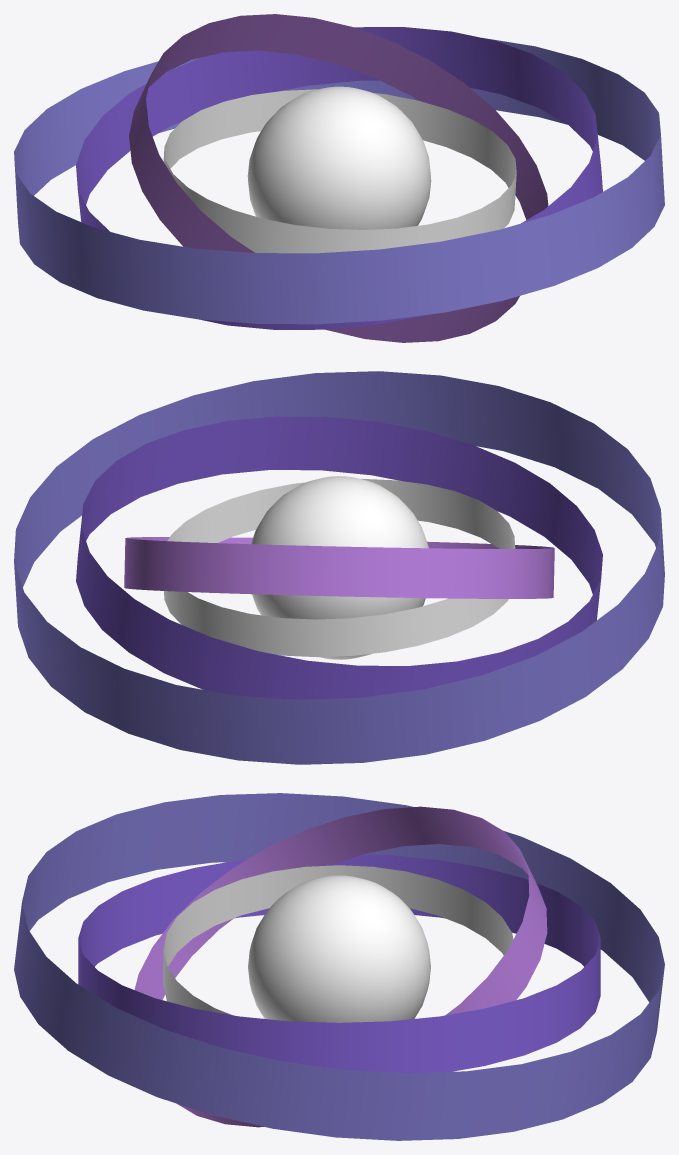
The model's file is metalicOrb2.glb.
3 views of the same model, one above another, from view 1: azimuth 30°, elevation 25°; view 2: azimuth 150°, elevation 25°; view 3: azimuth 270°, elevation 25° (orthographic).
Visible parts, largest first — view 1: Cylinder.003, Cylinder.002, Cylinder.001, Sphere, Cylinder; view 2: Cylinder.003, Cylinder.002, Cylinder.001, Cylinder, Sphere; view 3: Cylinder.003, Cylinder.002, Sphere, Cylinder.001, Cylinder.
Boxes of the visible parts, x1,y1,x2,y2 form: Cylinder.003: (14, 38, 664, 324); Cylinder.002: (76, 27, 602, 329); Cylinder.001: (129, 14, 548, 342); Sphere: (247, 86, 431, 229); Cylinder: (163, 89, 516, 253); Cylinder.003: (14, 371, 664, 764); Cylinder.002: (76, 416, 602, 699); Cylinder.001: (124, 537, 554, 598); Cylinder: (164, 478, 515, 657); Sphere: (251, 476, 428, 659); Cylinder.003: (14, 793, 664, 1140); Cylinder.002: (78, 854, 600, 1073); Sphere: (248, 875, 430, 1022); Cylinder.001: (134, 806, 547, 1127); Cylinder: (163, 865, 513, 1015).
Size of the model in its own units: 5.87 by 2 by 5.91.
